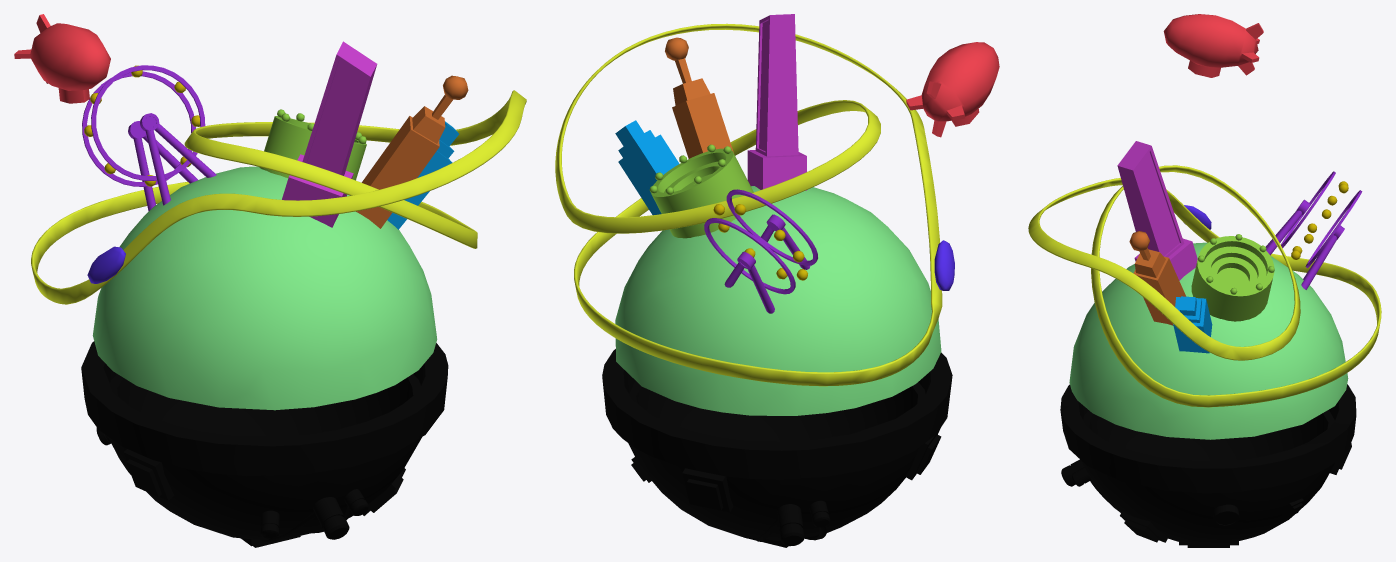
File: sm_planet_what_lod0.gltf
3 views of the same model, side by side, from view 1: azimuth 30°, elevation 25°; view 2: azimuth 150°, elevation 25°; view 3: azimuth 270°, elevation 25° (orthographic). The views are drawn at different scales.
Parts seen in each view (by area): view 1: sm_planet_what_lod0.001, sm_Dirigibile, sm_cabine, sm_cabina_ottovolante; view 2: sm_planet_what_lod0.001, sm_Dirigibile, sm_cabine, sm_cabina_ottovolante; view 3: sm_planet_what_lod0.001, sm_Dirigibile, sm_cabine.
Part boxes in pixels (x1,y1,x2,y2): sm_planet_what_lod0.001: [31, 41, 526, 547]; sm_Dirigibile: [14, 14, 110, 103]; sm_cabine: [82, 65, 205, 186]; sm_cabina_ottovolante: [87, 246, 125, 283]; sm_planet_what_lod0.001: [555, 14, 952, 547]; sm_Dirigibile: [906, 42, 999, 137]; sm_cabine: [704, 189, 817, 294]; sm_cabina_ottovolante: [934, 240, 954, 290]; sm_planet_what_lod0.001: [1028, 141, 1381, 547]; sm_Dirigibile: [1163, 14, 1263, 77]; sm_cabine: [1281, 171, 1362, 268].
Size of the model in its own units: 3.09 by 3.56 by 2.54.
